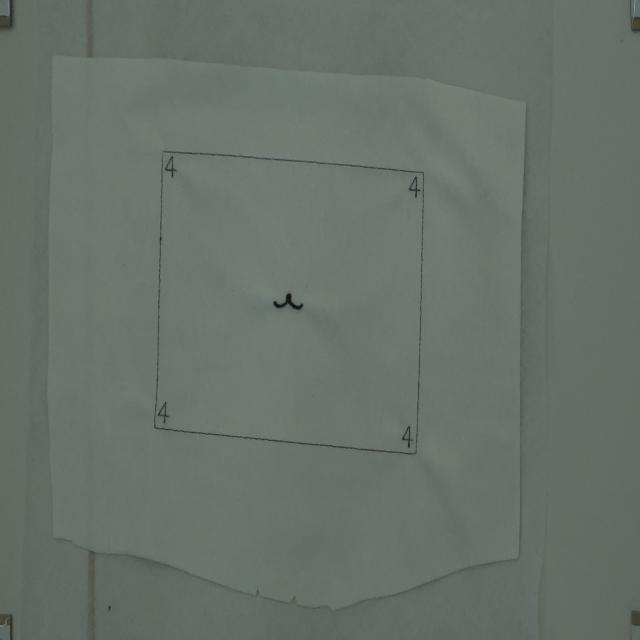4 -: (406, 172, 422, 205), (166, 152, 178, 188), (158, 399, 172, 425), (401, 425, 414, 450)
